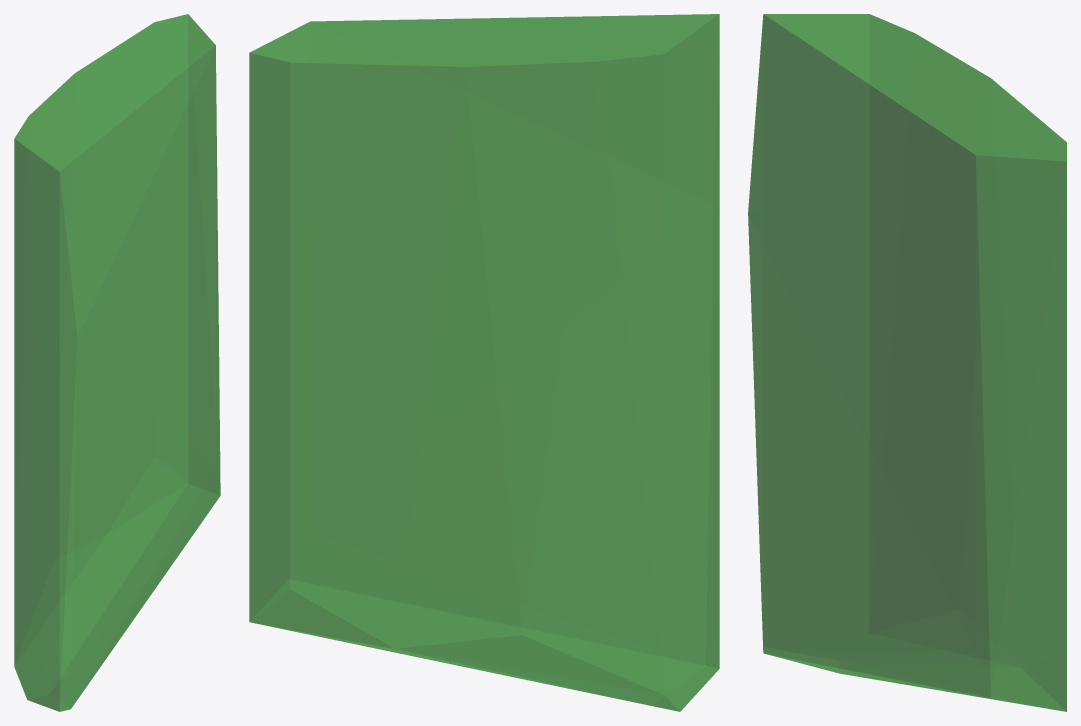
3 views of the same model, side by side, from view 1: azimuth 30°, elevation 25°; view 2: azimuth 150°, elevation 25°; view 3: azimuth 270°, elevation 25° (orthographic). The views are drawn at different scales.
Visible parts, largest first — view 1: Shape_IndexedFaceSet.015_Shape_IndexedFaceSet.613; view 2: Shape_IndexedFaceSet.015_Shape_IndexedFaceSet.613; view 3: Shape_IndexedFaceSet.015_Shape_IndexedFaceSet.613.
Boxes of the visible parts, box(x1,y1,x2,y2) form: Shape_IndexedFaceSet.015_Shape_IndexedFaceSet.613: box(14, 14, 220, 711); Shape_IndexedFaceSet.015_Shape_IndexedFaceSet.613: box(249, 14, 719, 711); Shape_IndexedFaceSet.015_Shape_IndexedFaceSet.613: box(748, 14, 1066, 711).
Bounding box in the file's own units: 0.0428 × 0.0875 × 0.0391.
